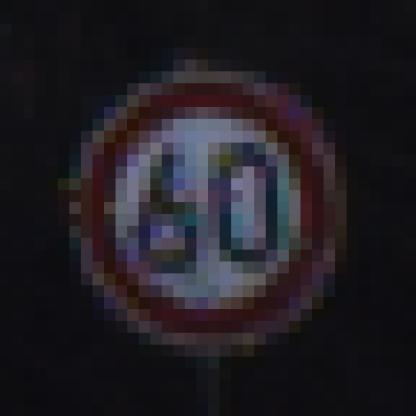Speed Limit 60: (84, 75, 330, 342)
